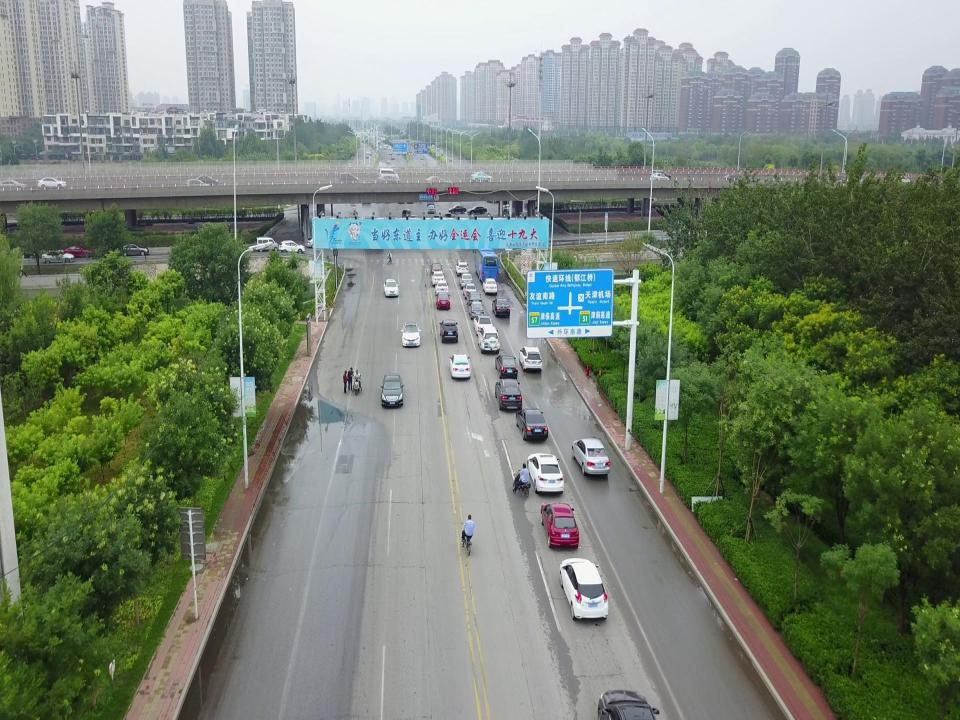bus: (475, 246, 499, 284)
car: (560, 558, 610, 621), (541, 503, 579, 552), (571, 439, 611, 478), (528, 455, 564, 495), (514, 409, 548, 443), (495, 378, 523, 412), (380, 373, 403, 408), (518, 346, 544, 373), (477, 328, 500, 354), (450, 353, 470, 379), (494, 355, 516, 377), (401, 324, 421, 348), (441, 319, 459, 345), (41, 252, 75, 265), (36, 177, 67, 191), (64, 246, 94, 259), (473, 316, 493, 335), (119, 243, 149, 255), (493, 298, 510, 319), (278, 241, 304, 254), (382, 279, 398, 299), (186, 179, 210, 191), (468, 302, 484, 320), (723, 173, 747, 185), (0, 179, 26, 190), (470, 171, 492, 183), (193, 176, 219, 186), (339, 173, 359, 186), (483, 278, 498, 294), (466, 291, 482, 306), (377, 175, 401, 185), (306, 235, 326, 247), (436, 294, 450, 310), (462, 283, 476, 299), (431, 271, 445, 286), (459, 273, 473, 288), (426, 176, 449, 185), (467, 205, 487, 215), (455, 262, 468, 276), (430, 263, 442, 276), (434, 282, 448, 293), (448, 206, 466, 214), (650, 174, 668, 182), (427, 205, 436, 214), (391, 156, 395, 161), (386, 160, 390, 164), (420, 157, 424, 159)
van: (254, 237, 278, 253), (377, 168, 399, 183), (402, 209, 412, 220)
